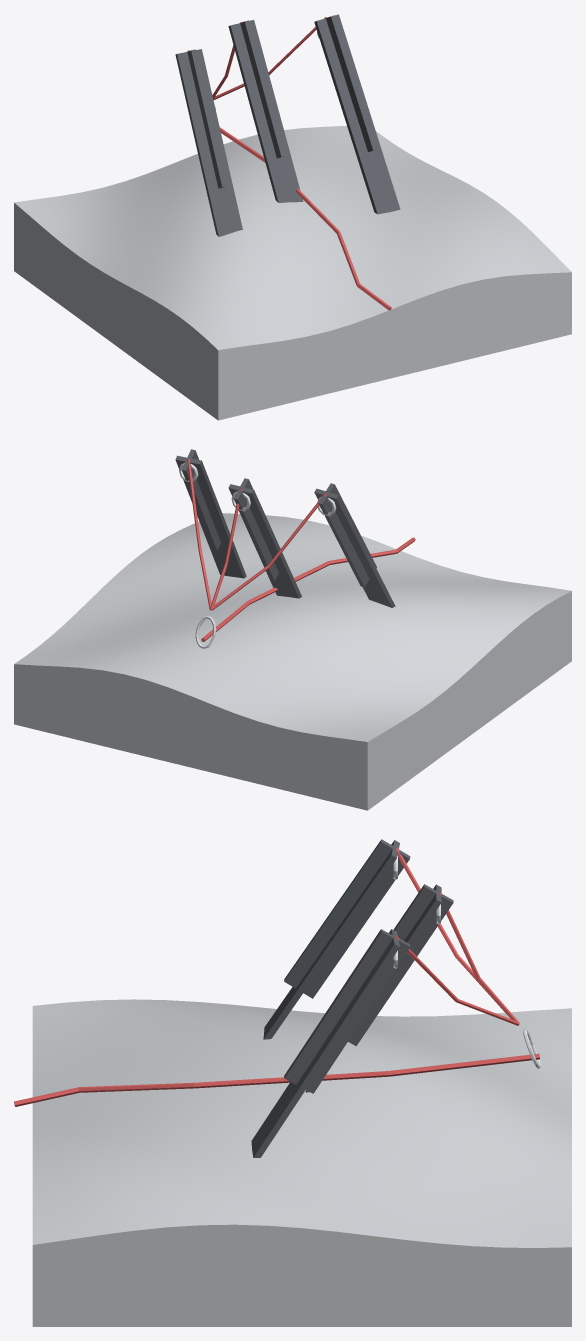
Rendered from mountaineering-and-summit-expedition-fixed-rope-picket-d8caa692__18805.glb.
3 renders of one model, top to bottom at view 1: azimuth 30°, elevation 25°; view 2: azimuth 150°, elevation 25°; view 3: azimuth 270°, elevation 25°, orthographic. The views are drawn at different scales.
Visible parts, largest first — view 1: fixed-rope-picket-anchor; view 2: fixed-rope-picket-anchor; view 3: fixed-rope-picket-anchor.
Boxes of the visible parts, x1,y1,x2,y2 form: fixed-rope-picket-anchor: (14, 14, 571, 420); fixed-rope-picket-anchor: (14, 449, 571, 810); fixed-rope-picket-anchor: (14, 839, 571, 1326).
Bounding box in the file's own units: 1.5 × 1 × 1.55.
